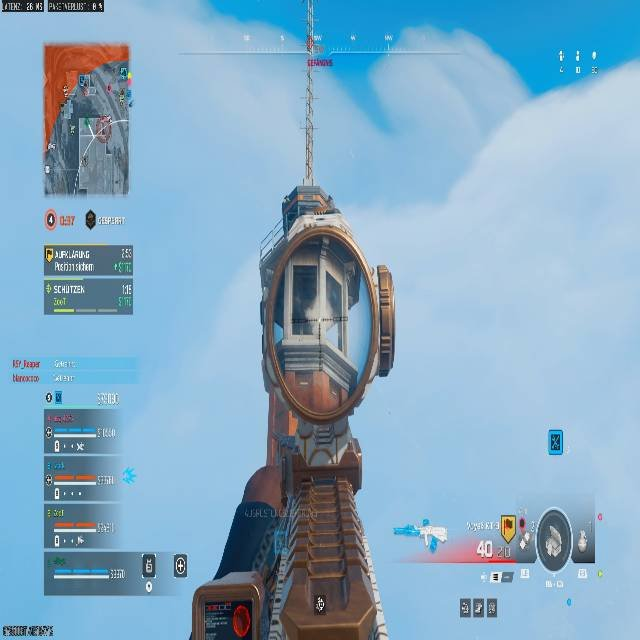head: (257, 66, 393, 428)
player: (187, 181, 415, 640)
